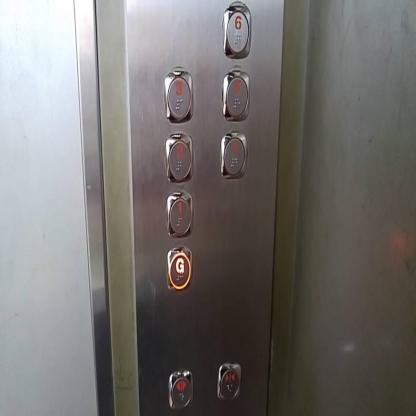1: (164, 191, 195, 238)
2: (164, 133, 193, 182)
3: (164, 64, 194, 124)
4: (220, 129, 247, 179)
5: (222, 66, 251, 123)
6: (222, 1, 252, 60)
G: (164, 245, 192, 292)
close: (217, 362, 241, 402)
open: (168, 368, 193, 411)
